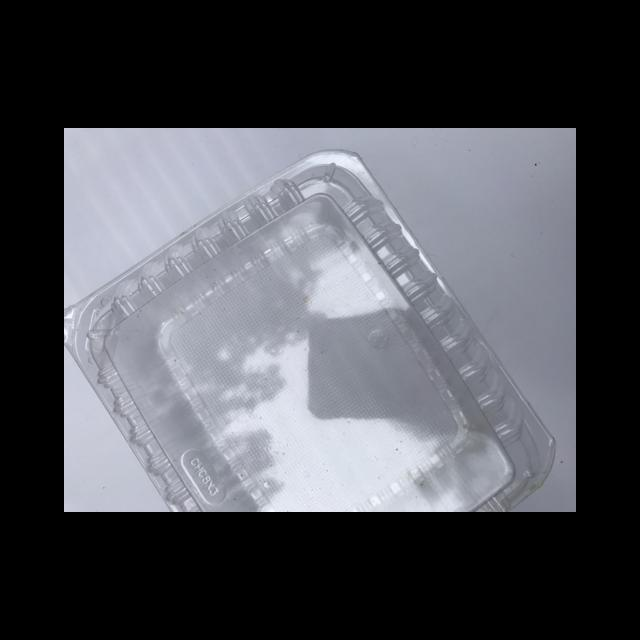plastic: (64, 149, 555, 511)
